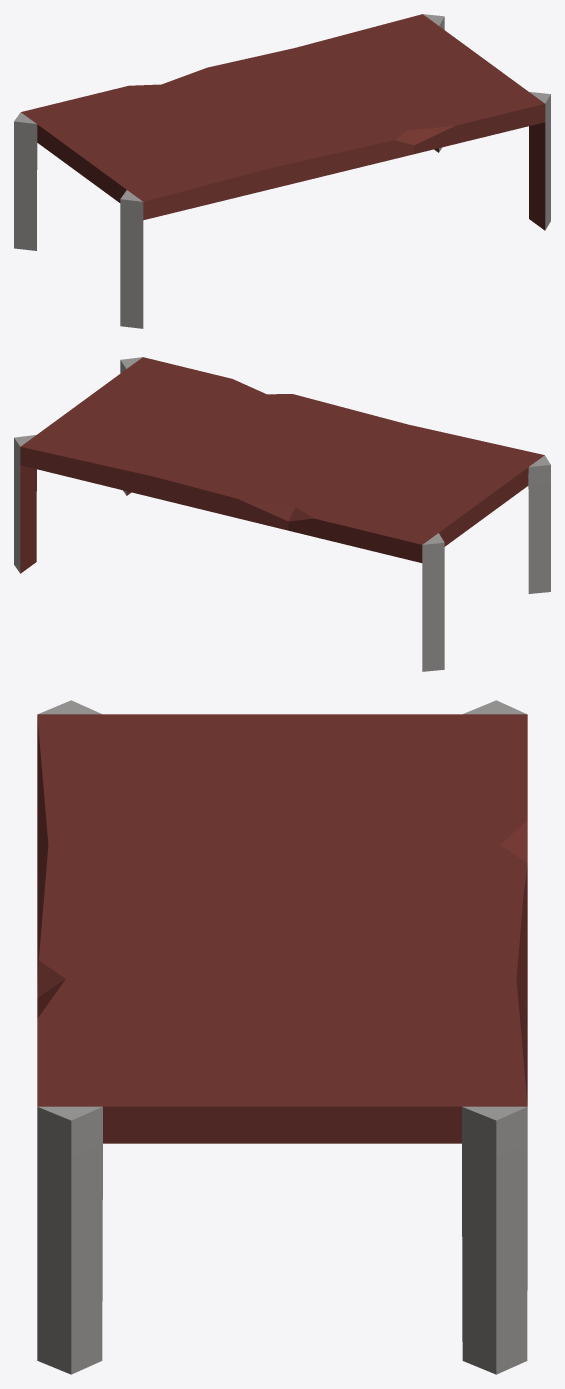
File: SM_Prop_Shelves_01.fbx
The picture shows the model from 3 angles, top to bottom: view 1: azimuth 30°, elevation 25°; view 2: azimuth 150°, elevation 25°; view 3: azimuth 270°, elevation 25°; orthographic projection. The views are drawn at different scales.
Parts seen in each view (by area): view 1: SM_Prop_Shelves_01; view 2: SM_Prop_Shelves_01; view 3: SM_Prop_Shelves_01.
Boxes of the visible parts, bbox=[...] form: SM_Prop_Shelves_01: bbox=[14, 14, 550, 328]; SM_Prop_Shelves_01: bbox=[14, 357, 550, 671]; SM_Prop_Shelves_01: bbox=[37, 700, 527, 1374].
Size of the model in its own units: 239 by 67.46 by 118.
